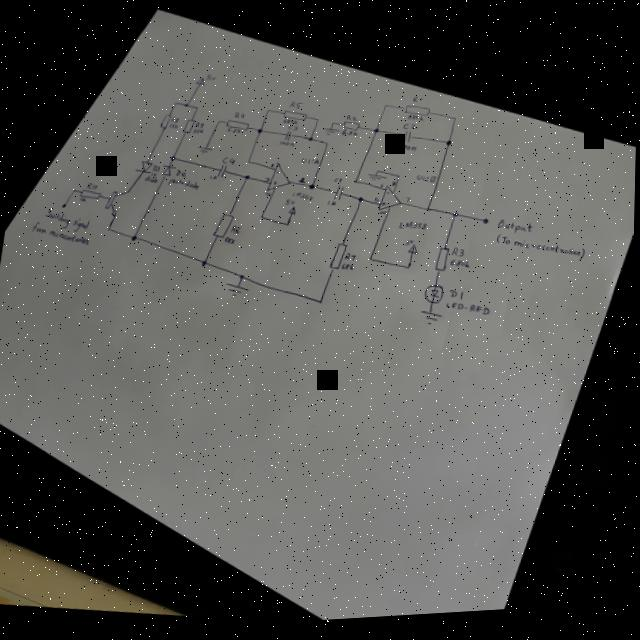capacitor: (333, 187, 344, 204), (402, 133, 413, 147), (216, 165, 226, 180), (283, 132, 292, 144)
diode: (423, 286, 445, 310), (134, 159, 153, 176), (160, 163, 177, 178)
ground: (223, 283, 250, 301), (418, 313, 443, 331), (320, 127, 340, 140), (366, 175, 387, 186), (196, 146, 211, 157)
junction: (451, 214, 458, 224), (317, 301, 324, 308), (169, 155, 176, 162), (357, 198, 363, 206), (445, 143, 451, 151), (368, 258, 374, 266), (201, 260, 207, 267), (373, 130, 379, 137), (406, 266, 412, 273), (132, 235, 137, 241), (256, 130, 262, 135), (307, 138, 312, 144), (239, 275, 244, 281), (309, 187, 314, 192), (382, 106, 386, 111), (259, 216, 264, 220), (265, 110, 269, 115), (245, 177, 249, 181), (452, 120, 456, 124), (426, 211, 430, 215), (246, 161, 250, 165), (194, 106, 198, 110), (107, 227, 111, 231), (353, 182, 357, 186), (173, 102, 177, 106), (72, 188, 76, 192), (183, 104, 187, 108), (376, 172, 380, 176), (396, 177, 400, 181), (325, 144, 329, 148), (286, 224, 289, 228), (217, 121, 220, 125), (331, 123, 334, 127), (316, 122, 318, 124)
resistor: (212, 213, 234, 242), (328, 244, 349, 274), (433, 249, 450, 278), (282, 110, 308, 126), (403, 107, 430, 122), (224, 119, 249, 135), (78, 187, 102, 200), (341, 122, 360, 135), (181, 118, 195, 135), (158, 112, 170, 131)
source: (407, 246, 419, 259), (194, 77, 205, 87), (288, 208, 297, 217)
terminal: (482, 223, 489, 230), (61, 203, 66, 208)
text: (493, 231, 588, 274), (29, 217, 92, 249), (42, 205, 92, 235), (445, 303, 492, 323), (496, 220, 533, 240), (397, 220, 428, 237), (167, 178, 200, 193), (448, 261, 472, 275), (291, 193, 314, 205), (448, 292, 465, 305), (415, 177, 437, 187), (450, 249, 465, 263), (398, 146, 417, 157), (406, 116, 424, 127), (299, 159, 318, 169), (225, 127, 242, 138), (341, 130, 358, 140), (401, 125, 418, 135), (222, 156, 236, 168), (287, 102, 302, 113), (143, 174, 158, 185), (344, 115, 359, 126), (340, 264, 355, 275), (281, 119, 298, 128), (278, 141, 295, 150), (223, 237, 236, 248), (344, 255, 357, 265), (229, 226, 242, 236), (85, 181, 97, 191), (175, 169, 187, 179), (411, 98, 423, 108), (404, 241, 415, 251), (234, 112, 245, 121), (205, 74, 216, 83), (208, 175, 219, 184), (326, 201, 336, 210), (193, 122, 204, 130), (332, 179, 343, 187), (284, 200, 295, 208), (192, 128, 204, 135), (286, 127, 298, 134), (78, 195, 88, 203), (151, 165, 160, 173), (169, 123, 178, 131), (170, 117, 180, 124), (298, 179, 306, 186), (390, 183, 397, 191), (372, 199, 379, 206), (263, 178, 270, 185), (271, 181, 278, 188), (149, 172, 157, 178), (378, 213, 386, 219), (404, 200, 410, 207), (379, 185, 385, 192), (269, 164, 275, 171), (380, 204, 387, 210), (265, 193, 271, 198), (274, 172, 280, 177), (386, 195, 390, 199)
transistor: (103, 187, 129, 219)
